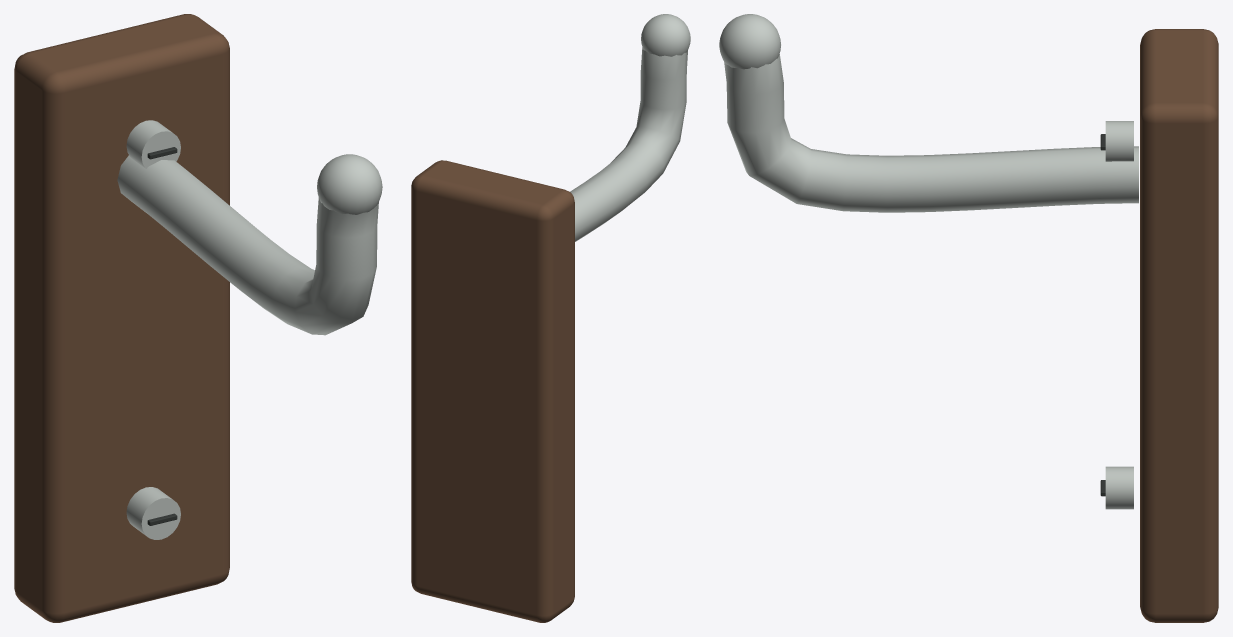
Rendered from abandoned-telephone-exchange-headset-hanging-bracket-2b0f4977__31981.glb.
The picture shows the model from 3 angles, left to right: view 1: azimuth 30°, elevation 25°; view 2: azimuth 150°, elevation 25°; view 3: azimuth 270°, elevation 25°; orthographic projection. The views are drawn at different scales.
Parts seen in each view (by area): view 1: headset-hanging-bracket; view 2: headset-hanging-bracket; view 3: headset-hanging-bracket.
Part boxes in pixels (bbox=[...]): headset-hanging-bracket: bbox=[14, 14, 382, 622]; headset-hanging-bracket: bbox=[411, 14, 690, 622]; headset-hanging-bracket: bbox=[719, 14, 1218, 622].
Size of the model in its own units: 0.085 by 0.263 by 0.2095.
